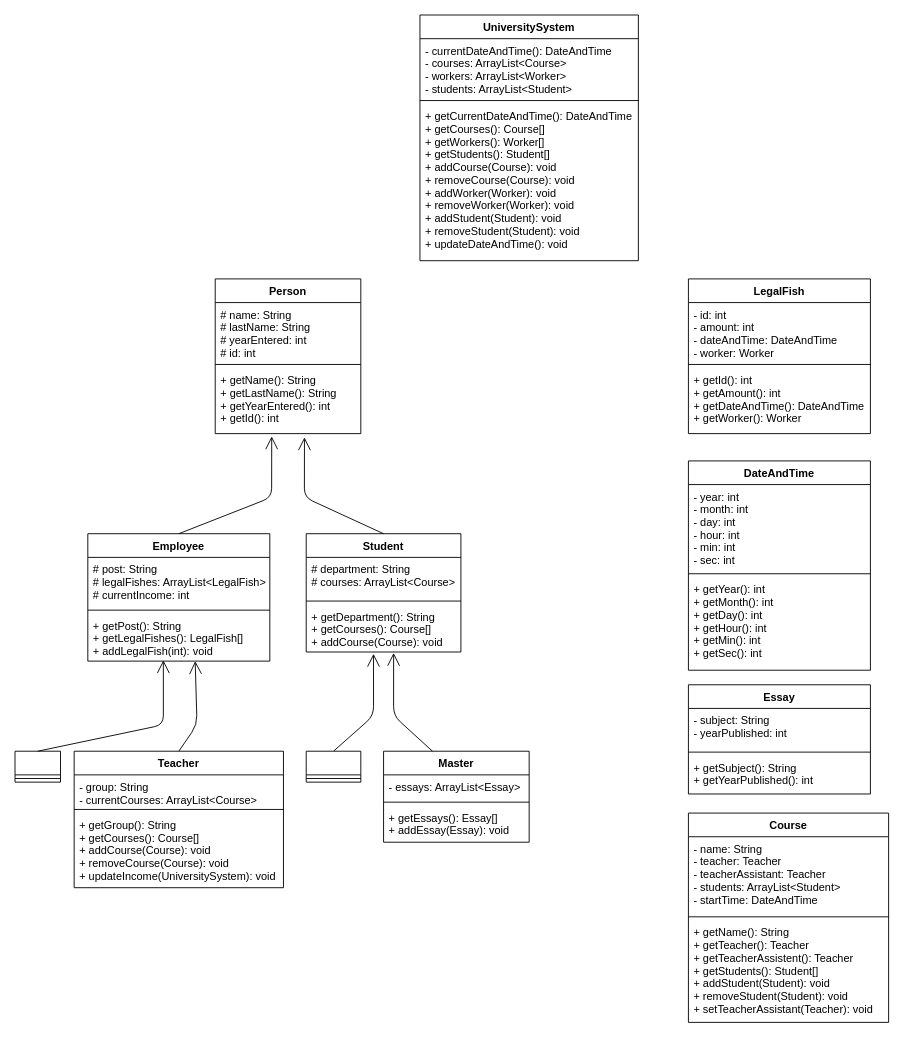
Some shapes in this 904 by 1037 pixel diagram are drawn without their labels. The shapes that lost their labels are listed below. From the top down, each one's centre as x and y in pixels, then its label:
At (37,766): "Worker".
At (333,766): "Bachelor".
